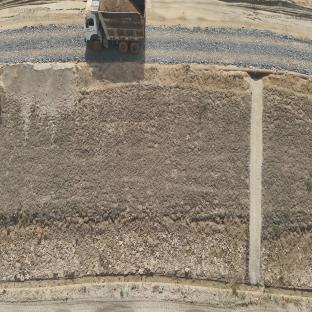rock_toe: (0, 238, 246, 280), (264, 239, 312, 285)
slope_drain: (248, 79, 263, 285)
toe_drain: (0, 272, 312, 299)
